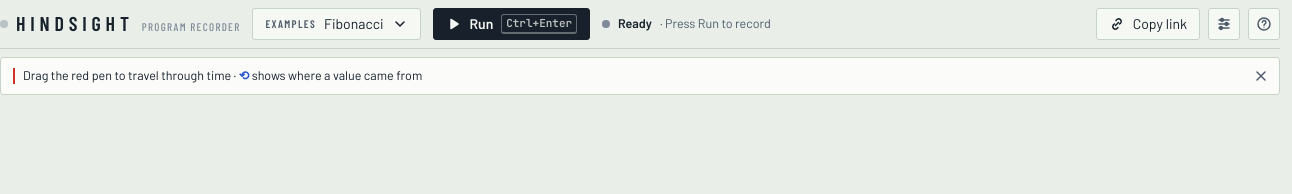
Scenario: Header › the example menu lists every example and loads the chosen one
Click the button "Examples Fibonacci".
click(336, 24)  # box [252,8,420,40]
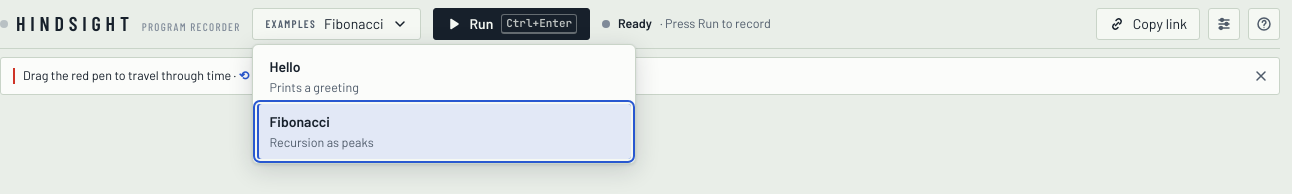
Press ArrowDown in the menu named "Example programs", box [252,44,636,164]
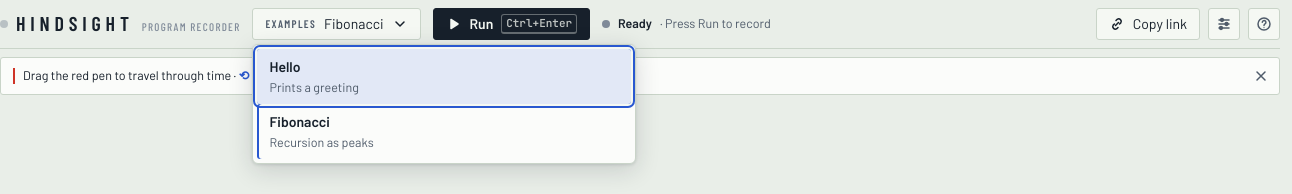
Click the menu item "Hello Prints a greeting".
click(285, 66)  # box [258,49,632,104]
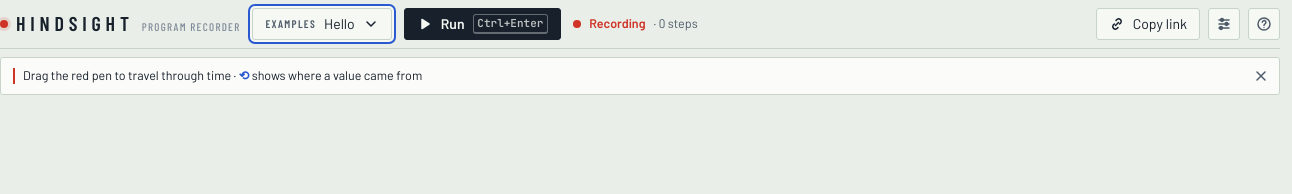
Now the menu is gone
Now the button "Examples Hello" is shown, box [252,8,392,40]
